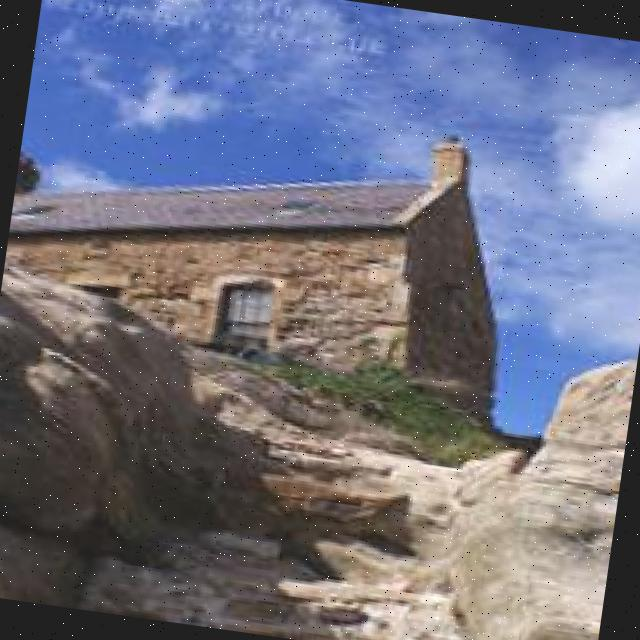stairs: (49, 355, 538, 640)
